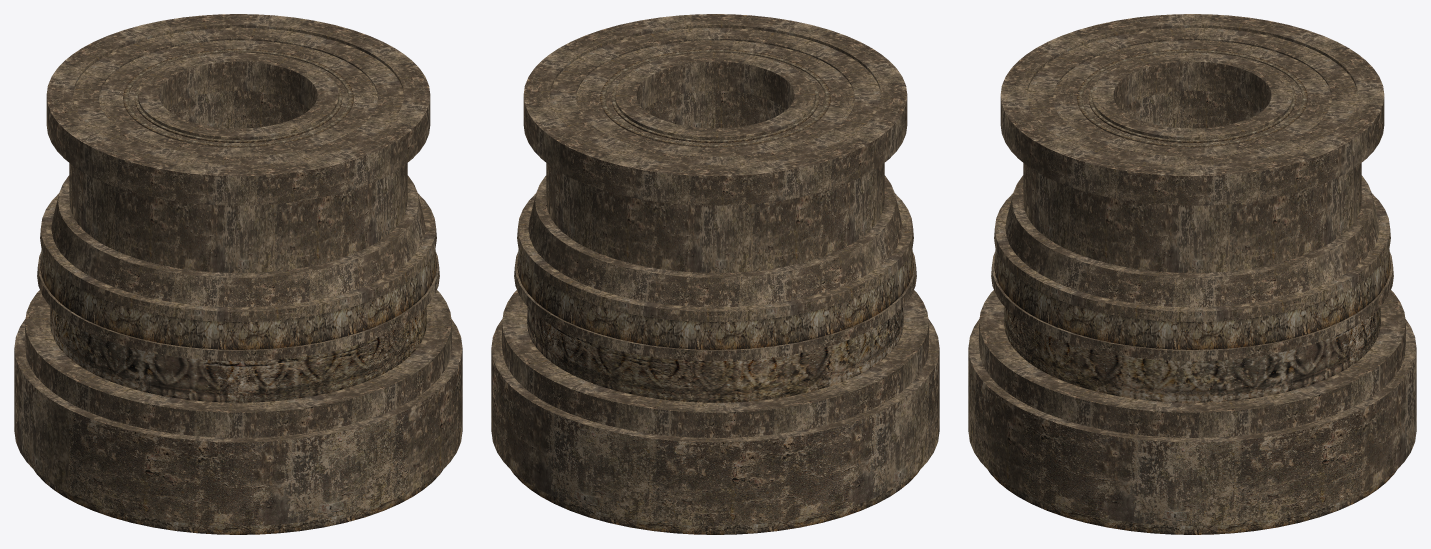
The model's file is materials_5_wall_cylinder_4.fbx.
3 renders of one model, left to right at view 1: azimuth 30°, elevation 25°; view 2: azimuth 150°, elevation 25°; view 3: azimuth 270°, elevation 25°, orthographic.
Visible parts, largest first — view 1: materials_5_wall_cylinder_4; view 2: materials_5_wall_cylinder_4; view 3: materials_5_wall_cylinder_4.
Part boxes in pixels (x1,y1,x2,y2): materials_5_wall_cylinder_4: (14,14,462,534); materials_5_wall_cylinder_4: (491,14,939,534); materials_5_wall_cylinder_4: (968,14,1416,534).
Size of the model in its own units: 522 by 449 by 522.
